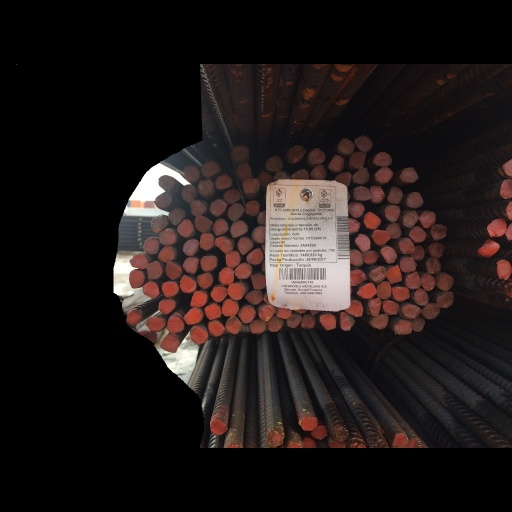dipstick: (476, 239, 501, 257), (487, 215, 506, 237), (353, 185, 372, 204), (244, 288, 264, 306), (496, 256, 512, 278), (237, 306, 257, 323), (183, 307, 203, 324), (165, 318, 185, 335), (257, 304, 278, 320), (230, 220, 248, 238), (338, 137, 355, 156), (384, 265, 403, 282), (189, 327, 209, 343), (128, 253, 148, 269), (400, 304, 421, 319), (230, 145, 248, 162), (264, 156, 282, 173), (375, 167, 393, 184), (328, 154, 345, 172), (349, 269, 367, 286), (199, 255, 217, 272), (182, 239, 200, 256), (287, 146, 306, 162), (373, 151, 392, 167), (392, 286, 411, 302), (346, 301, 365, 317), (318, 314, 337, 330), (195, 214, 211, 233), (179, 277, 198, 293), (209, 418, 229, 433), (386, 223, 403, 240), (156, 175, 174, 191), (363, 213, 381, 229), (437, 291, 455, 307), (369, 265, 385, 283), (377, 282, 393, 300), (235, 262, 253, 278), (226, 316, 242, 334), (400, 167, 419, 182), (350, 169, 369, 184), (219, 301, 238, 316), (203, 303, 222, 318), (497, 180, 512, 199), (308, 148, 325, 164), (355, 136, 372, 152), (350, 153, 367, 169), (335, 170, 352, 186), (355, 235, 371, 252), (250, 273, 267, 289), (247, 249, 264, 265), (224, 188, 241, 204), (226, 204, 243, 220), (219, 268, 235, 285), (209, 200, 226, 216), (196, 180, 213, 196), (128, 271, 145, 287), (146, 264, 163, 280), (159, 245, 176, 261), (201, 162, 219, 177), (347, 203, 365, 218), (420, 212, 435, 230), (420, 273, 435, 291), (436, 275, 454, 290), (371, 313, 389, 328), (349, 249, 364, 267), (341, 313, 356, 331), (238, 237, 253, 255), (207, 321, 225, 336), (189, 291, 207, 306), (161, 281, 179, 296), (167, 209, 185, 224), (146, 316, 165, 330), (243, 199, 259, 215), (211, 285, 227, 301), (212, 218, 228, 234), (178, 220, 194, 236), (369, 187, 384, 204), (411, 228, 428, 243), (302, 313, 317, 330), (251, 319, 268, 334), (196, 273, 213, 288), (189, 200, 206, 215), (182, 257, 199, 272), (164, 262, 181, 277), (151, 216, 168, 231), (241, 180, 259, 194), (358, 285, 376, 299), (215, 237, 233, 251), (180, 187, 198, 201), (407, 192, 423, 207), (403, 212, 418, 228), (428, 240, 444, 255), (399, 238, 415, 253), (372, 230, 388, 245), (381, 247, 397, 262), (401, 257, 417, 272), (367, 299, 382, 315), (225, 251, 241, 266), (228, 284, 244, 299), (159, 299, 175, 314), (143, 239, 159, 254), (301, 417, 317, 432), (430, 225, 447, 239), (394, 319, 411, 333), (252, 227, 266, 244), (274, 308, 293, 320), (405, 274, 420, 289), (269, 317, 284, 332), (426, 258, 440, 274), (413, 291, 429, 305), (154, 193, 170, 207), (312, 167, 329, 180), (266, 432, 283, 445), (502, 155, 512, 177), (236, 165, 251, 179), (424, 305, 439, 319), (161, 336, 176, 350), (144, 283, 159, 297), (332, 427, 347, 441), (394, 434, 409, 448), (200, 233, 213, 249), (382, 302, 399, 314), (258, 173, 273, 186), (388, 188, 401, 203), (385, 205, 398, 220), (347, 219, 360, 234), (286, 313, 301, 326), (216, 175, 231, 188), (160, 231, 175, 244), (183, 167, 199, 179), (413, 318, 426, 332), (363, 252, 378, 264), (313, 427, 327, 439), (169, 440, 189, 448), (127, 311, 140, 323), (412, 246, 423, 260), (302, 436, 314, 448), (255, 210, 266, 223), (506, 219, 512, 242), (293, 171, 309, 179), (505, 203, 512, 217), (288, 440, 300, 448)
